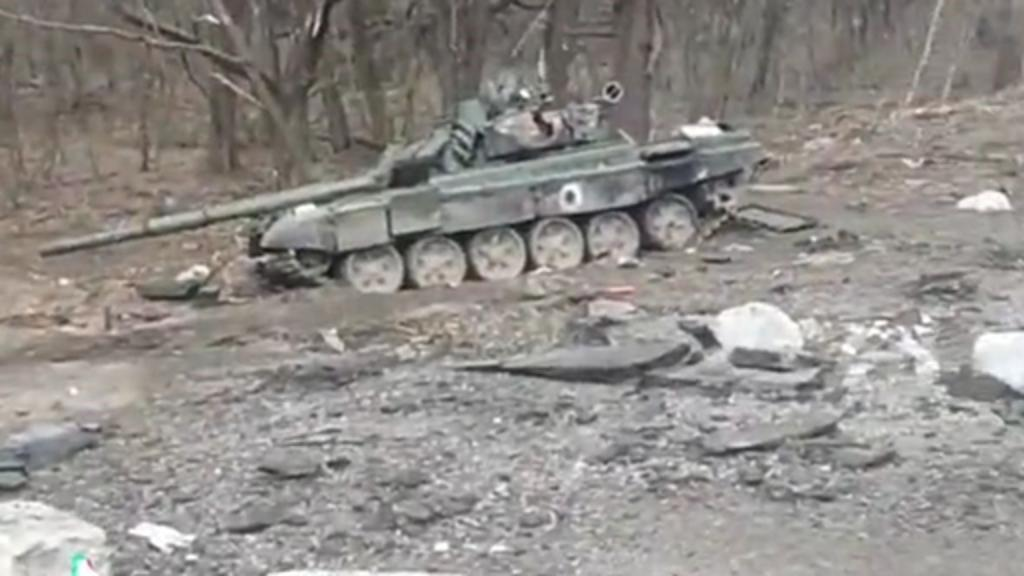TANK: (8, 70, 760, 336)
